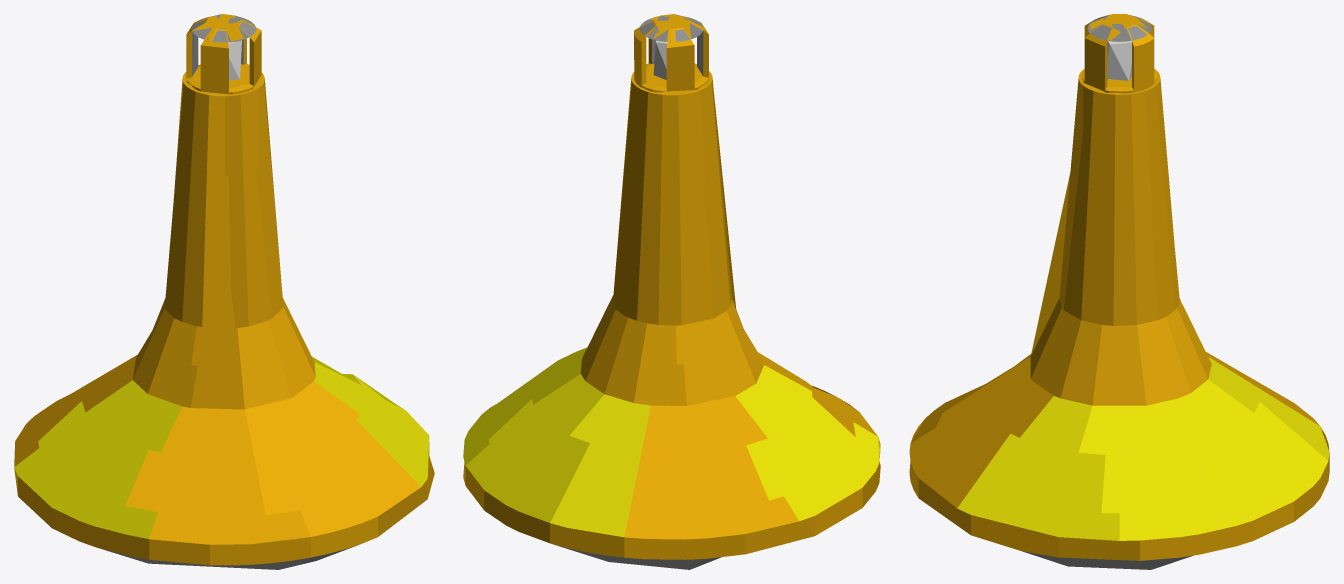
Rendered from BuoyLOD2.fbx.
3 renders of one model, left to right at view 1: azimuth 30°, elevation 25°; view 2: azimuth 150°, elevation 25°; view 3: azimuth 270°, elevation 25°, orthographic.
Parts seen in each view (by area): view 1: Base.002, Top.002; view 2: Base.002, Top.002; view 3: Base.002, Top.002, Light.002.
Boxes of the visible parts, x1,y1,x2,y2 form: Base.002: (14,72,434,569); Top.002: (186,14,261,94); Base.002: (463,71,880,569); Top.002: (634,14,708,92); Base.002: (909,69,1329,569); Top.002: (1081,14,1157,93); Light.002: (1107,40,1131,80).
Bounding box in the file's own units: 255 × 339 × 255.
